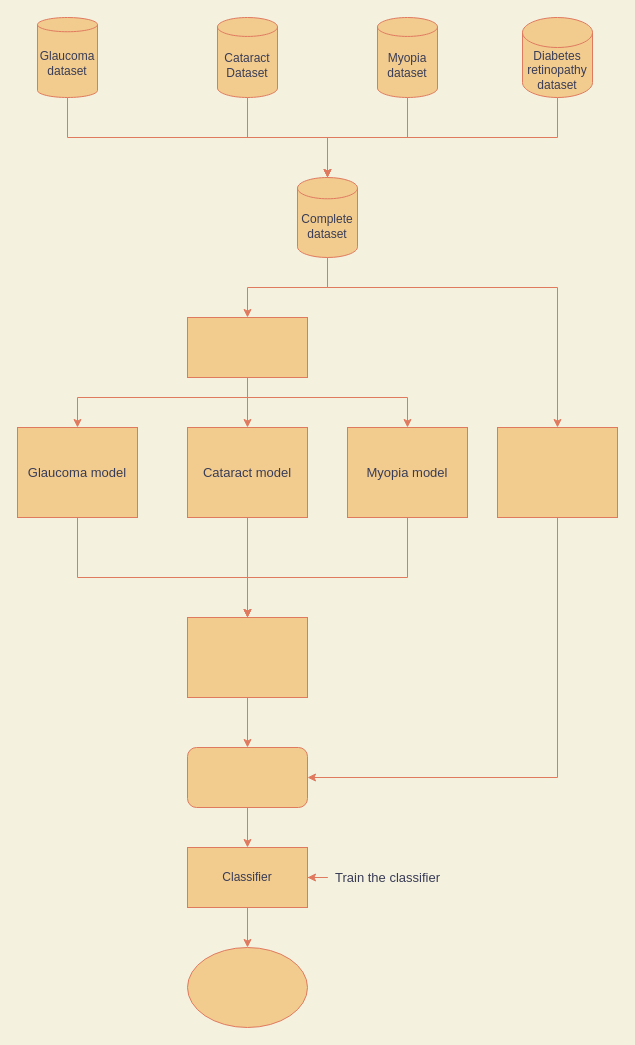
Image size: 635x1045. Some labels were removed from this diagram. The centre of each missing label's shape, as x and y in pixels:
Concatenate models: the point at 247,657
Concatenate result: the point at 247,777
Diabetes model: the point at 557,472
Input Layer: the point at 247,347
Output: the point at 247,987
